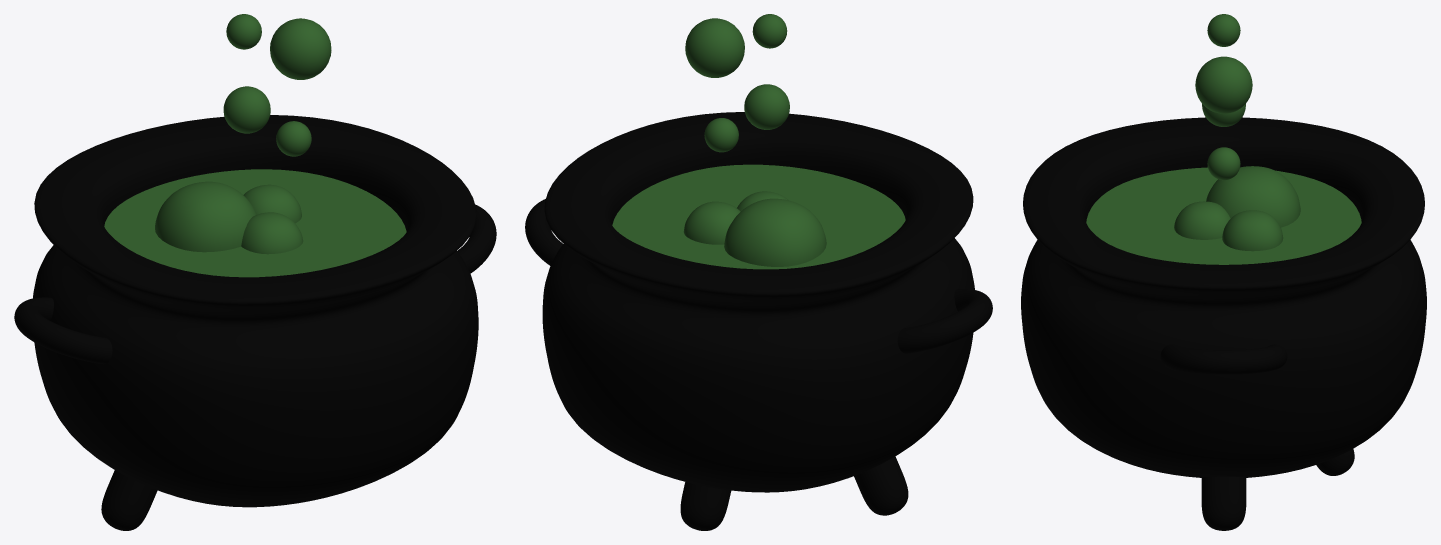
File: caldero_verde.glb
3 renders of one model, left to right at view 1: azimuth 30°, elevation 25°; view 2: azimuth 150°, elevation 25°; view 3: azimuth 270°, elevation 25°, orthographic. The views are drawn at different scales.
Parts seen in each view (by area): view 1: Cubo.017, Círculo.002, Cubo.020, Toroide.003, Esfera.005, Cubo.018, Esfera.006, Esfera.007, Esfera.004; view 2: Cubo.017, Círculo.002, Cubo.020, Toroide.003, Esfera.005, Cubo.018, Cubo.019, Esfera.006, Esfera.007, Esfera.004; view 3: Cubo.017, Círculo.002, Cubo.020, Toroide.003, Esfera.005, Cubo.018, Esfera.004, Esfera.007, Cubo.019, Esfera.006.
Boxes of the visible parts, x1,y1,x2,y2 form: Cubo.017: [33, 115, 478, 507]; Círculo.002: [104, 169, 406, 277]; Cubo.020: [155, 181, 303, 254]; Toroide.003: [14, 204, 496, 364]; Esfera.005: [270, 18, 331, 79]; Cubo.018: [101, 470, 157, 530]; Esfera.006: [223, 86, 270, 133]; Esfera.007: [276, 121, 311, 156]; Esfera.004: [226, 14, 261, 49]; Cubo.017: [542, 112, 974, 492]; Círculo.002: [612, 164, 905, 269]; Cubo.020: [683, 191, 826, 266]; Toroide.003: [525, 199, 992, 353]; Esfera.005: [685, 18, 744, 77]; Cubo.018: [854, 456, 908, 515]; Cubo.019: [680, 482, 731, 530]; Esfera.006: [744, 84, 789, 129]; Esfera.007: [704, 118, 738, 152]; Esfera.004: [752, 14, 787, 48]; Cubo.017: [1021, 117, 1426, 477]; Círculo.002: [1086, 167, 1361, 264]; Cubo.020: [1174, 166, 1300, 251]; Toroide.003: [1160, 344, 1287, 374]; Esfera.005: [1195, 56, 1252, 113]; Cubo.018: [1201, 476, 1246, 530]; Esfera.004: [1207, 14, 1240, 46]; Esfera.007: [1207, 147, 1240, 180]; Cubo.019: [1316, 449, 1354, 475]; Esfera.006: [1202, 104, 1245, 126].
Size of the model in its own units: 6.42 by 6.47 by 5.25.
